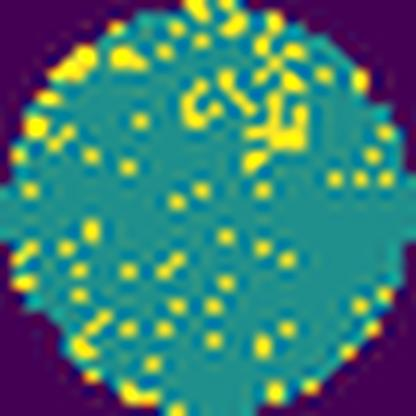Loc: (247, 94, 310, 152), (176, 82, 225, 127)
